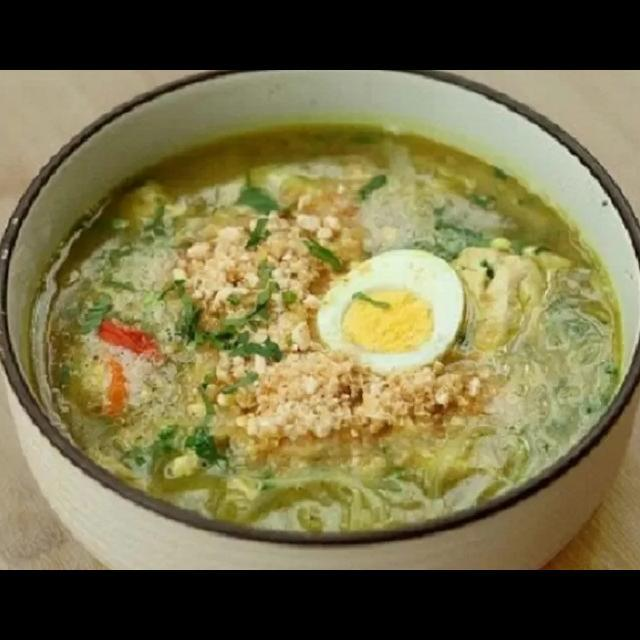Soto: (39, 127, 622, 535)
